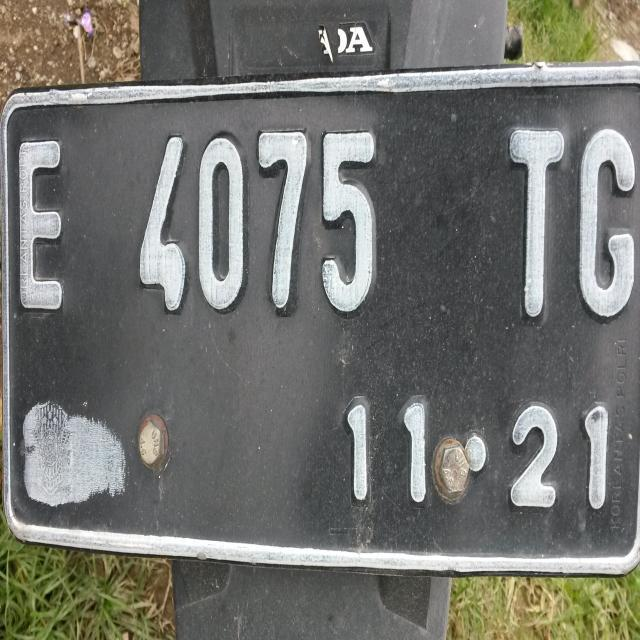0: (190, 115, 249, 322)
4: (132, 119, 190, 322)
5: (312, 101, 384, 331)
7: (249, 111, 314, 326)
E: (14, 131, 72, 326)
G: (571, 113, 640, 327)
T: (501, 108, 567, 334)
